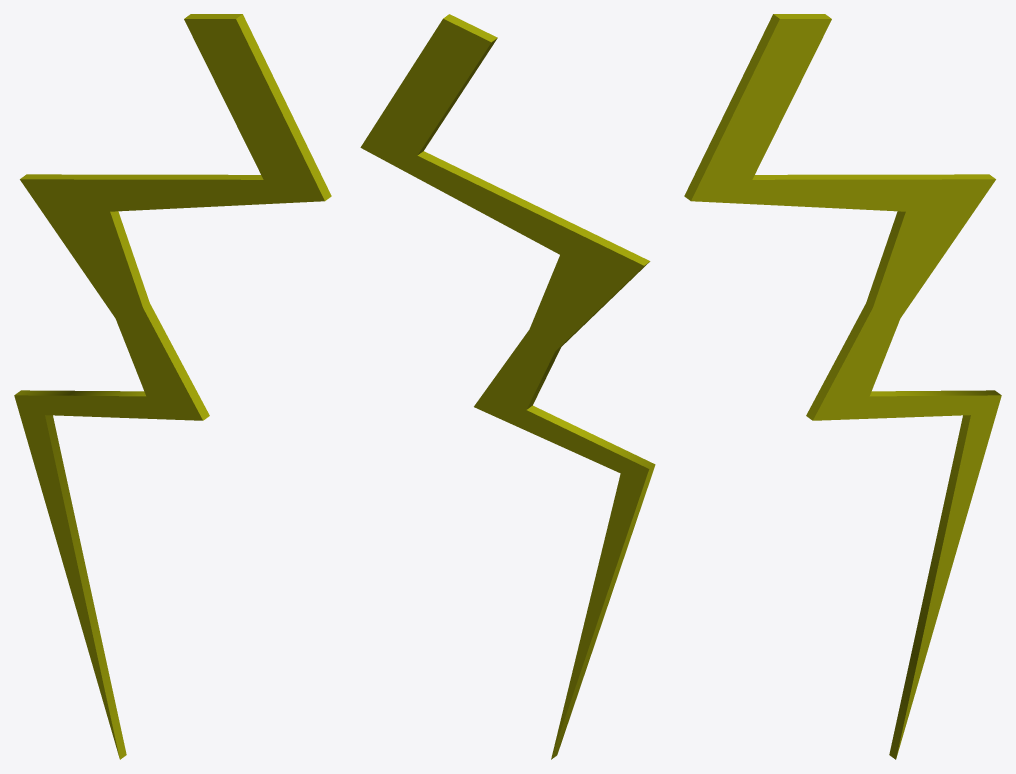
File: Lightning_02.fbx
3 renders of one model, left to right at view 1: azimuth 30°, elevation 25°; view 2: azimuth 210°, elevation 25°; view 3: azimuth 270°, elevation 25°, orthographic. The views are drawn at different scales.
Parts seen in each view (by area): view 1: Lightning_02; view 2: Lightning_02; view 3: Lightning_02.
Part boxes in pixels (box(x1,y1,x2,y2)): Lightning_02: box(14, 14, 331, 759); Lightning_02: box(360, 14, 655, 759); Lightning_02: box(684, 14, 1001, 759).
Size of the model in its own units: 553 by 2453 by 918.
